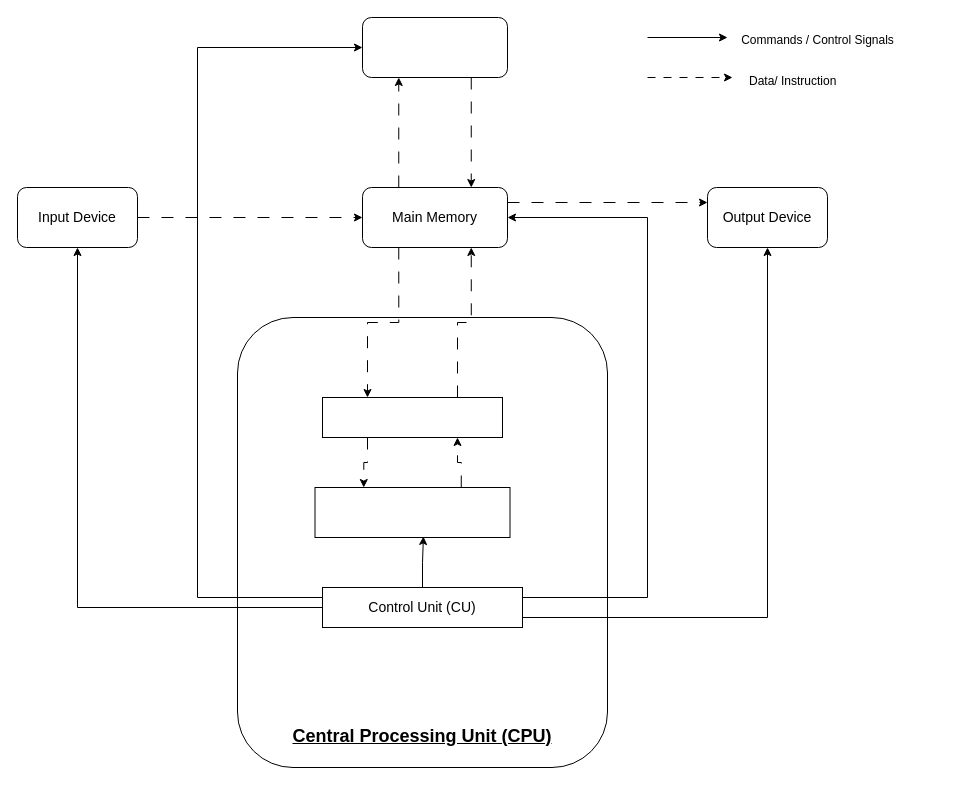
This 955x785 diagram has some shape labels left out. Here are the shapes that lost their labels. From the top down, the centre of each, then its label:
At point 435,47: "Secondary Memory".
At point 412,417: "Register".
At point 412,512: "Arithmetic & Logical Unit (ALU)".
